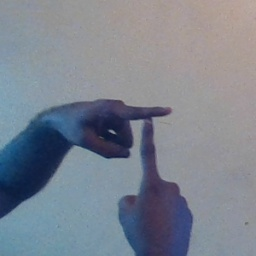T: (98, 93, 188, 202)
